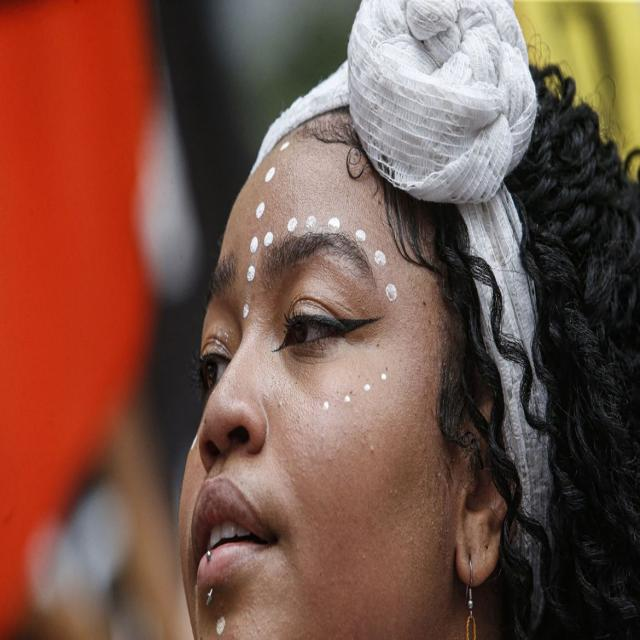sem_oculos: (162, 224, 469, 407)
